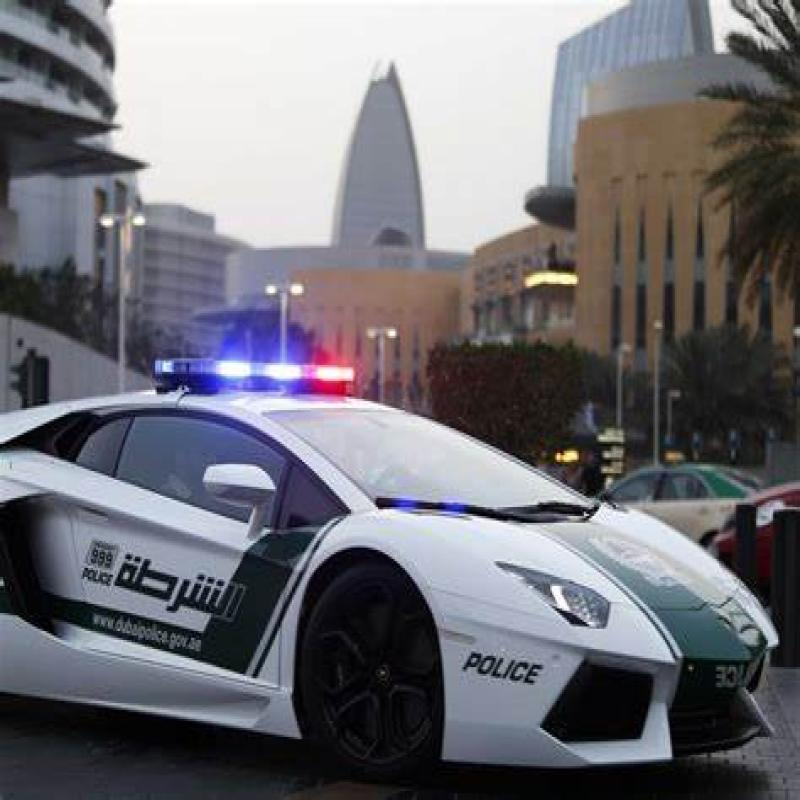AmbulanceSiren: (146, 332, 358, 401)
car: (14, 381, 800, 800)
